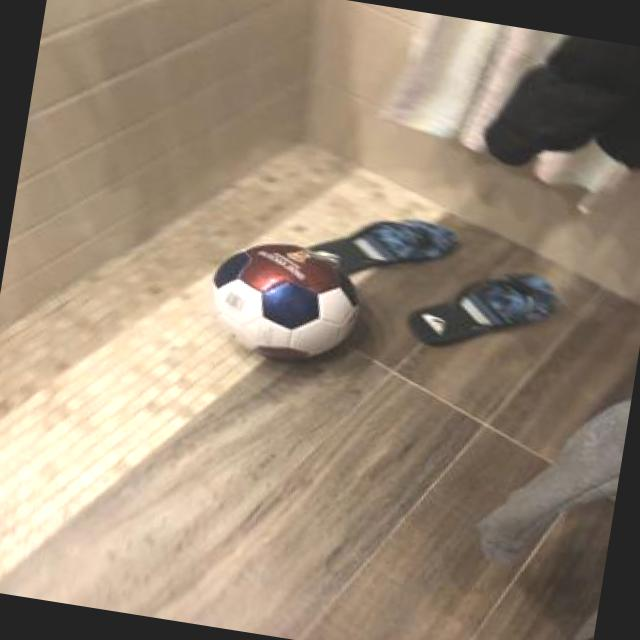Soccer Ball: (195, 228, 372, 374)
